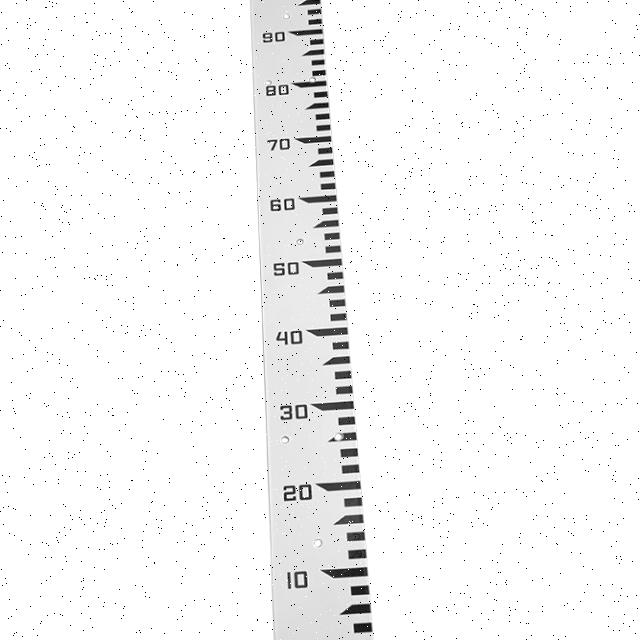10: (284, 571, 308, 591)
20: (282, 484, 313, 504)
30: (279, 402, 309, 422)
40: (274, 330, 304, 347)
50: (272, 260, 300, 279)
60: (267, 197, 296, 214)
70: (268, 137, 292, 153)
80: (265, 82, 290, 98)
90: (261, 30, 287, 47)
staff: (250, 0, 374, 640)
